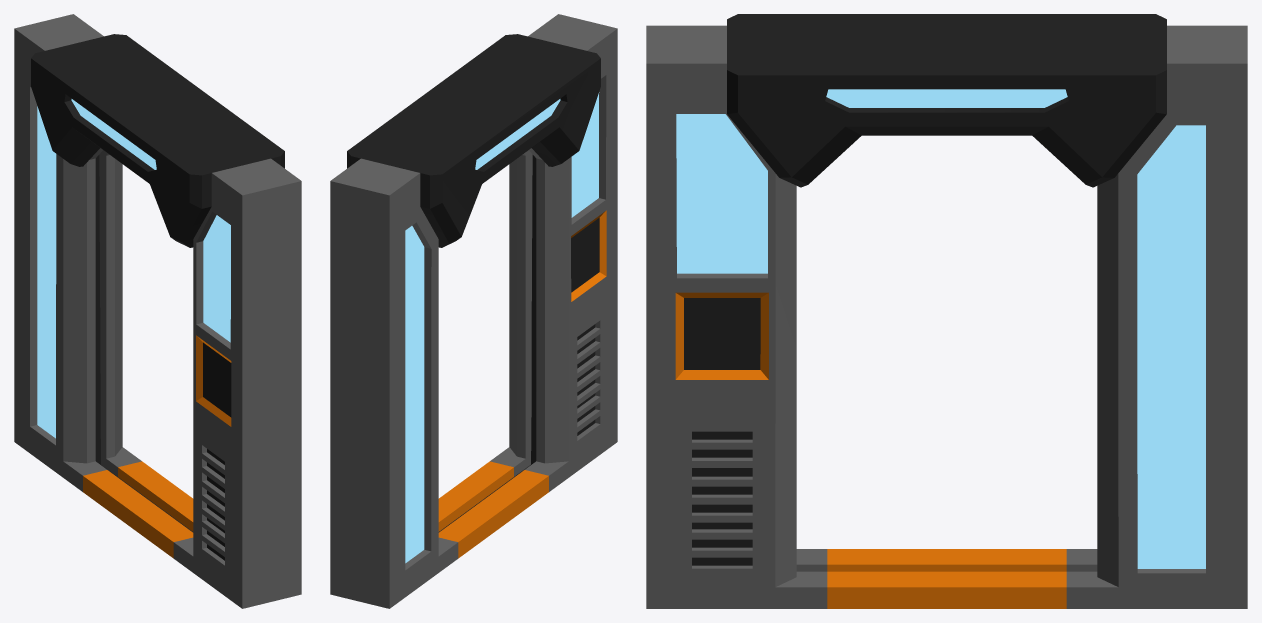
Rendered from Door_Frame.fbx.
The picture shows the model from 3 angles, left to right: view 1: azimuth 30°, elevation 25°; view 2: azimuth 150°, elevation 25°; view 3: azimuth 270°, elevation 25°; orthographic projection. The views are drawn at different scales.
Visible parts, largest first — view 1: Door_1_Base; view 2: Door_1_Base; view 3: Door_1_Base.
Part boxes in pixels (left/top/right/bottom): Door_1_Base: left=14, top=14, right=301, bottom=608; Door_1_Base: left=330, top=14, right=617, bottom=608; Door_1_Base: left=646, top=14, right=1247, bottom=608.
Size of the model in its own units: 48.26 by 200 by 200.
